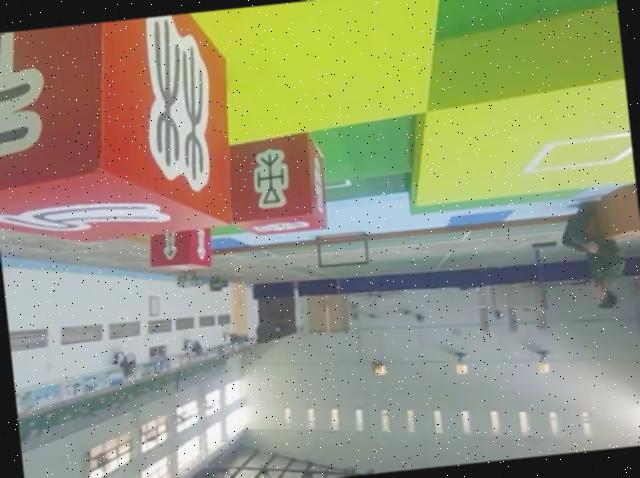R2 Fake: (0, 8, 247, 253)
R2 Real: (222, 125, 331, 246), (144, 220, 216, 277)
